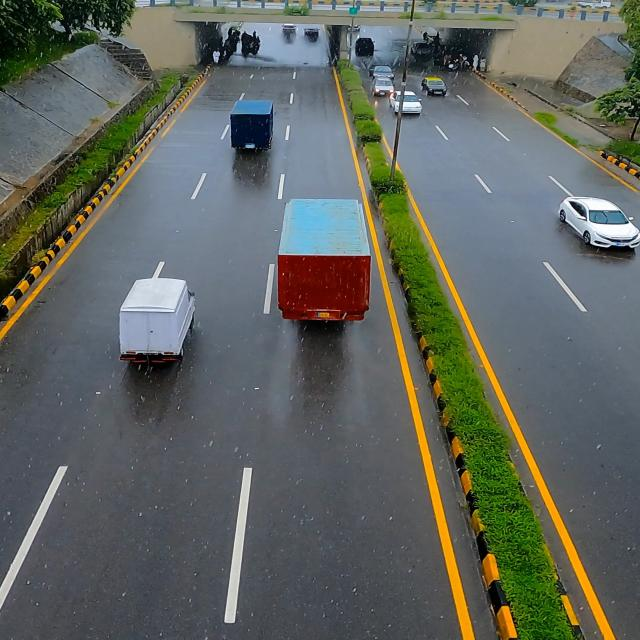Car: (281, 198, 372, 330), (124, 275, 204, 372), (554, 190, 640, 259), (230, 100, 280, 153), (392, 88, 423, 120), (422, 74, 453, 98)
